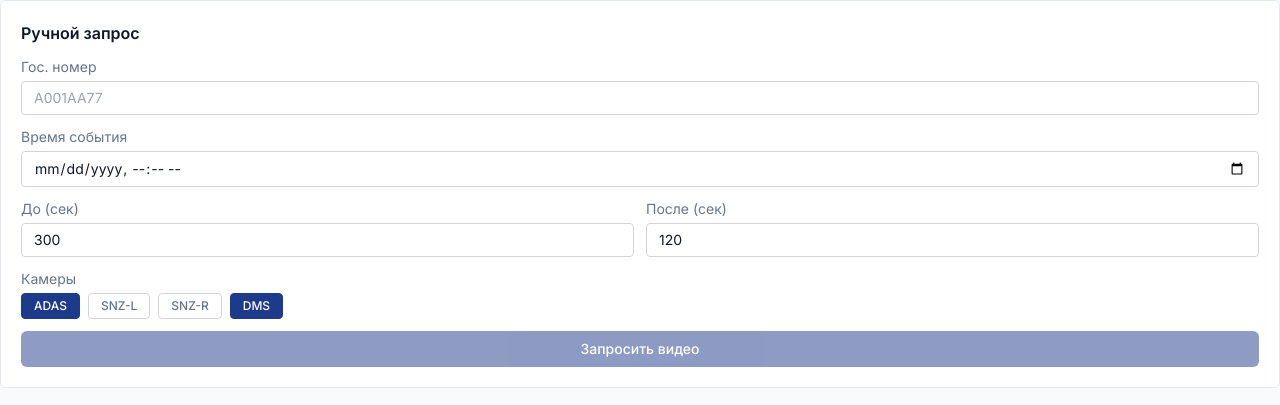
RuleBuilder › submit disabled when no cameras selected
Type "а001аа77" into the field named "Гос. номер ТС" at coordinates (640, 98), box [21,81,1259,115]
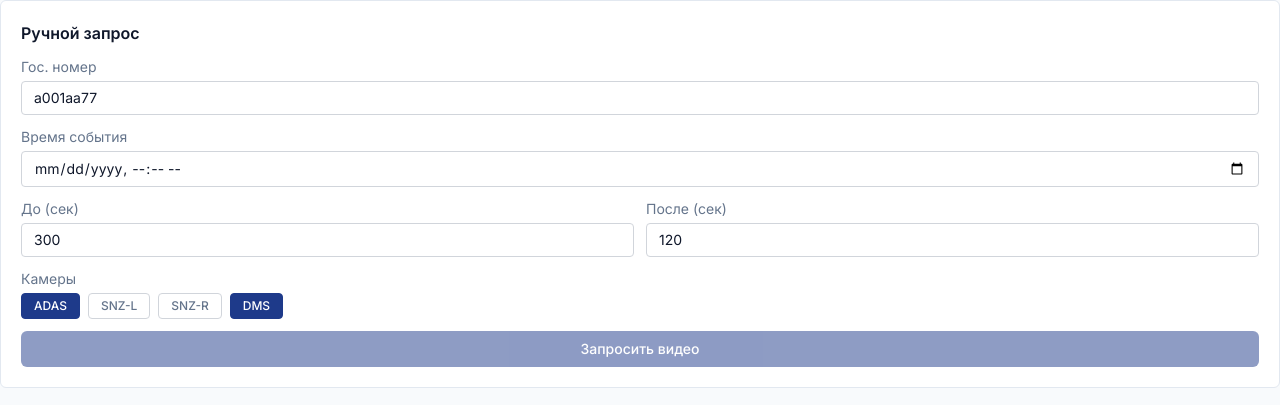
Type "2026-06-29T10:00" into the field labelled "Время события" at coordinates (640, 169), box [21,151,1259,187]
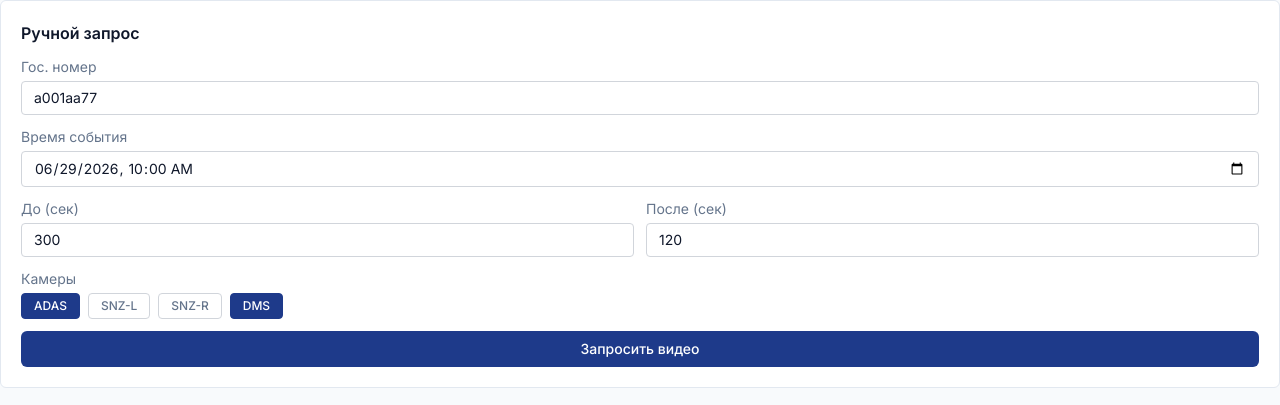
Click the checkbox named "Камера ADAS" at coordinates (50, 306), box [21,293,80,319]
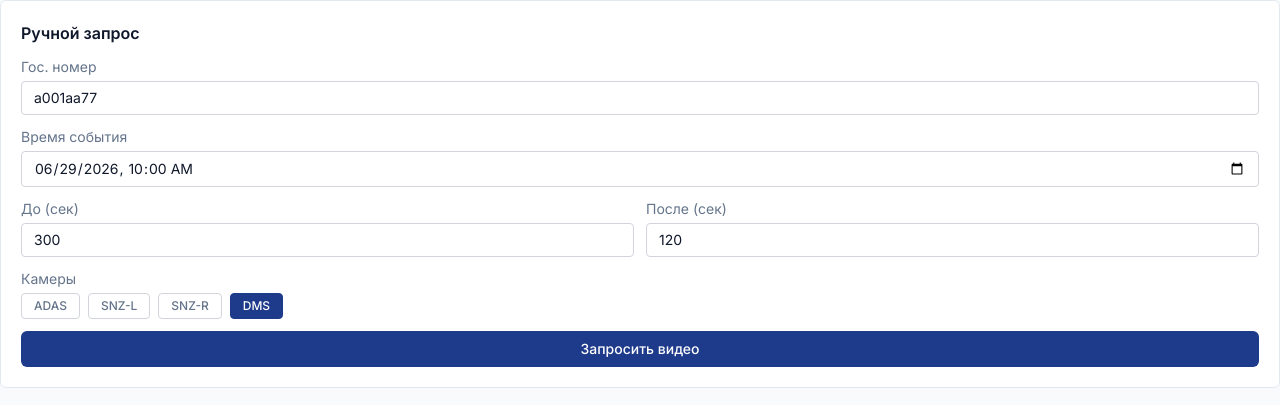
Click the checkbox named "Камера DMS" at coordinates (256, 306), box [230,293,283,319]
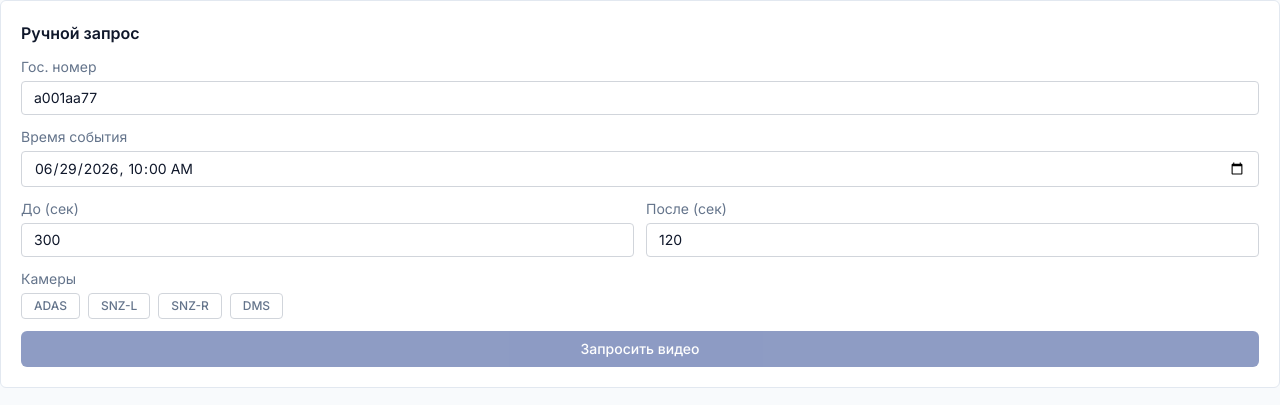
Result: the button "Запросить видео" is disabled at [21,331,1259,367]
